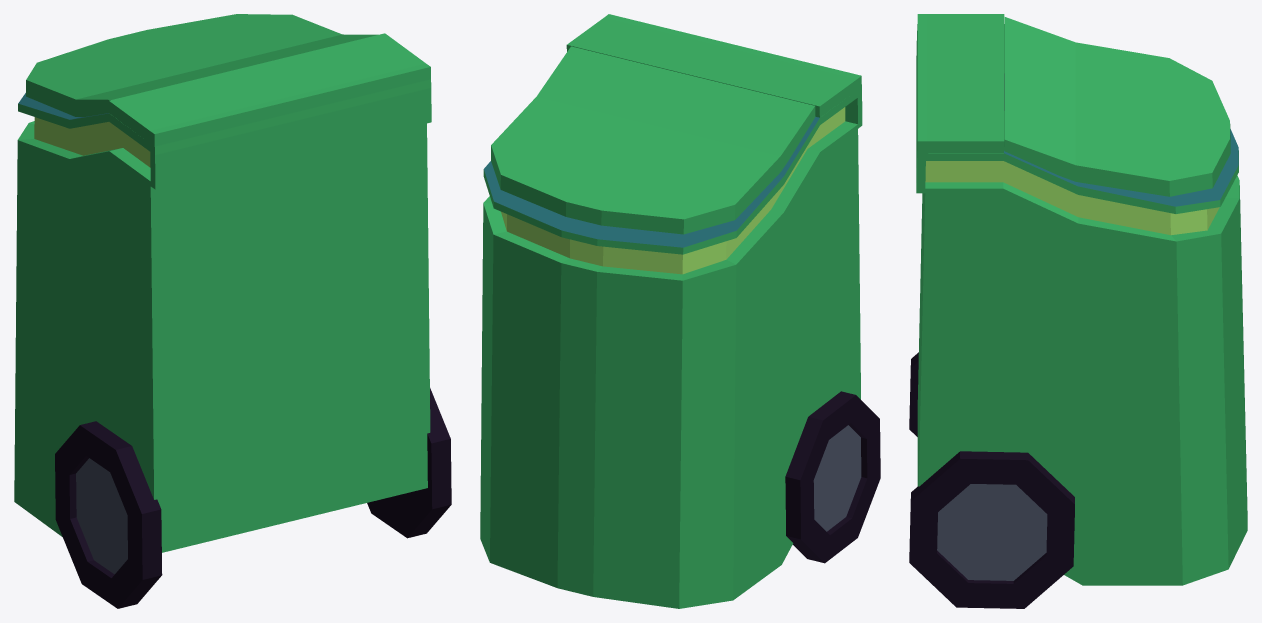
Rendered from Prop_GarbageBin.fbx.
The picture shows the model from 3 angles, left to right: view 1: azimuth 30°, elevation 25°; view 2: azimuth 150°, elevation 25°; view 3: azimuth 270°, elevation 25°; orthographic projection. The views are drawn at different scales.
Visible parts, largest first — view 1: garbage can, Garbage can lid; view 2: garbage can, Garbage can lid; view 3: garbage can, Garbage can lid.
Boxes of the visible parts, bbox=[...] form: garbage can: bbox=[14, 33, 451, 608]; Garbage can lid: bbox=[26, 14, 378, 116]; garbage can: bbox=[480, 14, 880, 608]; Garbage can lid: bbox=[491, 46, 815, 234]; garbage can: bbox=[909, 14, 1247, 608]; Garbage can lid: bbox=[1004, 17, 1230, 196].
Bounding box in the file's own units: 76.41 × 115 × 76.67.
